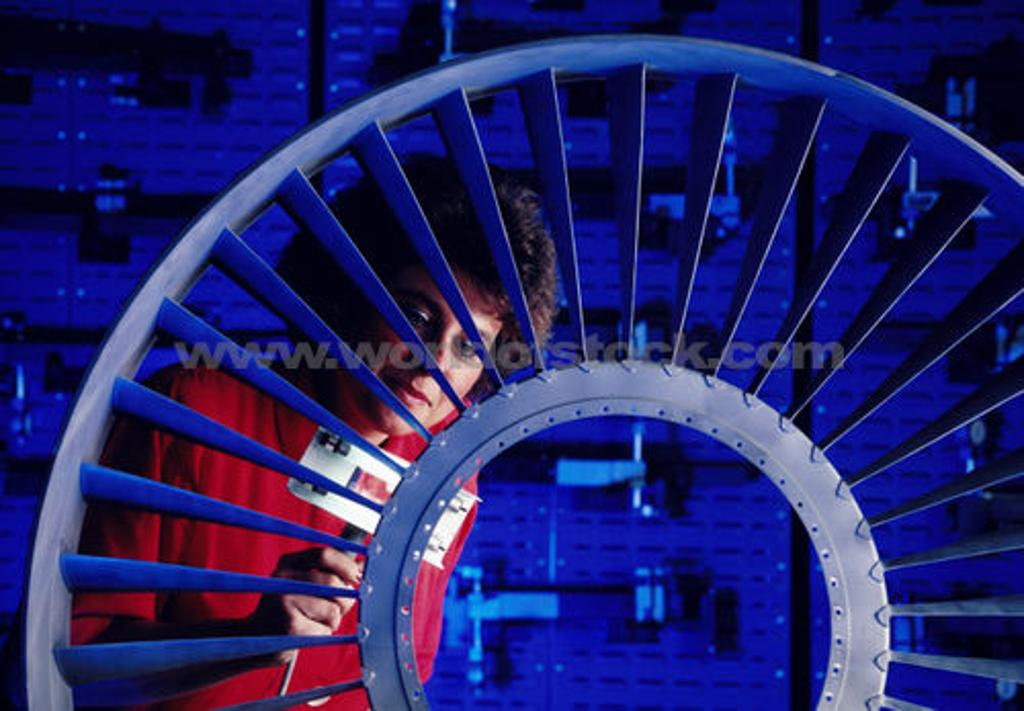face: (374, 250, 494, 424)
